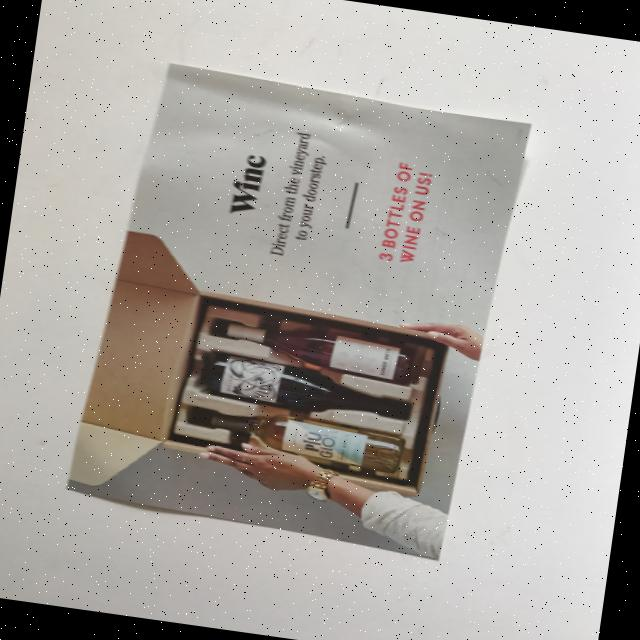paper: (64, 56, 533, 564)
